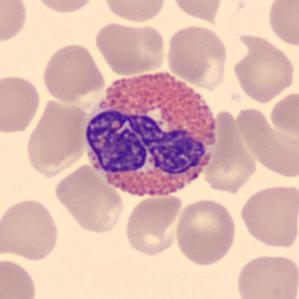Eosinophil: (78, 62, 225, 205)
RBC: (22, 96, 90, 177), (52, 161, 126, 235), (236, 104, 299, 182), (230, 33, 297, 104), (174, 196, 238, 268), (164, 22, 229, 88), (92, 20, 167, 76), (40, 41, 106, 104), (0, 196, 62, 262), (238, 182, 298, 250), (207, 109, 255, 192), (123, 192, 183, 258), (233, 252, 298, 299), (0, 72, 43, 135), (0, 256, 39, 299), (101, 0, 169, 24), (265, 0, 298, 49), (268, 89, 298, 140), (0, 0, 30, 45), (168, 0, 225, 22), (29, 0, 100, 15)
